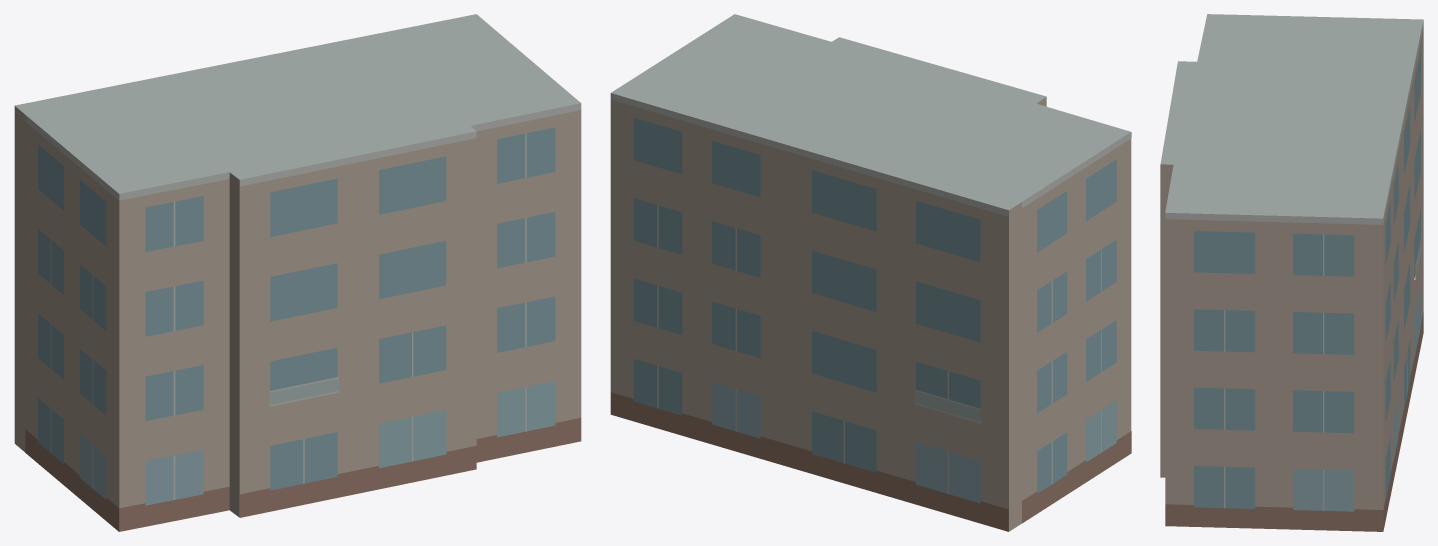
The model's file is survey-upis-33042953.glb.
The picture shows the model from 3 angles, left to right: view 1: azimuth 30°, elevation 25°; view 2: azimuth 150°, elevation 25°; view 3: azimuth 270°, elevation 25°; orthographic projection. The views are drawn at different scales.
Visible parts, largest first — view 1: survey-upis-33042953.tmp; view 2: survey-upis-33042953.tmp; view 3: survey-upis-33042953.tmp.
Part boxes in pixels (x1=…): survey-upis-33042953.tmp: x1=14, y1=14, x2=581, y2=531; survey-upis-33042953.tmp: x1=610, y1=14, x2=1131, y2=531; survey-upis-33042953.tmp: x1=1160, y1=14, x2=1423, y2=531.
Bounding box in the file's own units: 17.1 × 12.2 × 9.3.
